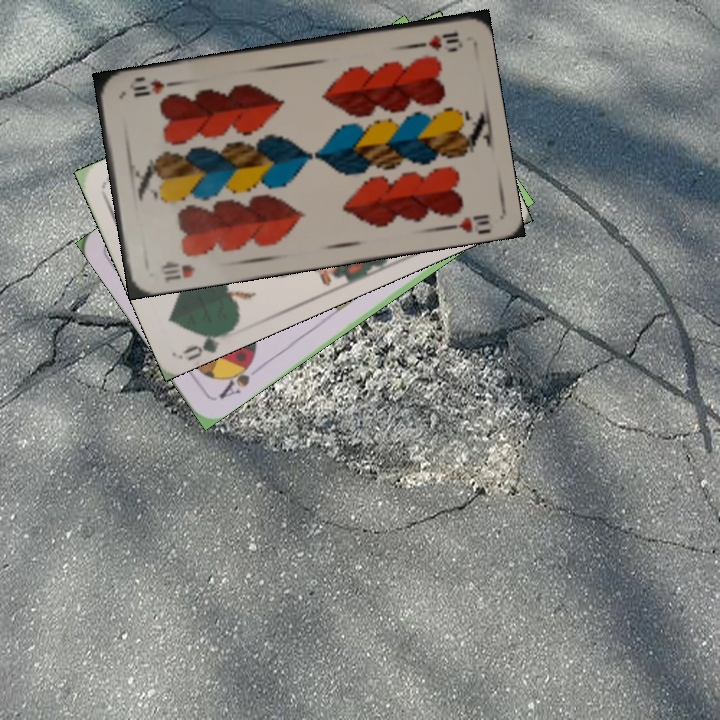GO: (180, 326, 235, 362)
H10: (407, 28, 465, 53), (156, 257, 198, 285)
SA: (214, 354, 257, 402)
